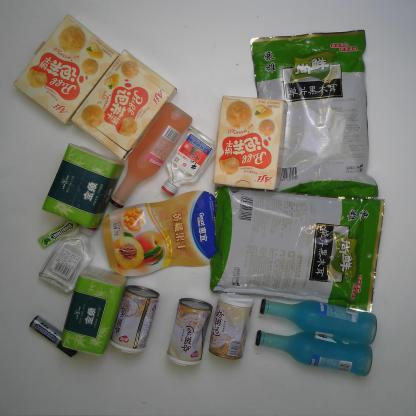Alcohol: (107, 101, 194, 210), (255, 330, 374, 378), (258, 298, 378, 344), (37, 225, 98, 295), (160, 124, 216, 198)
Canned Food: (109, 284, 161, 355), (165, 297, 214, 367), (208, 291, 254, 360)
Dessert: (12, 13, 121, 127), (70, 47, 178, 162), (211, 93, 289, 192)
Dried Food: (209, 184, 388, 314), (248, 28, 380, 199)
Dried Fruit: (101, 189, 219, 278)
Gum: (37, 218, 80, 249)
Stationery: (29, 314, 78, 358)
Tissue: (40, 143, 125, 229), (59, 265, 128, 357)
